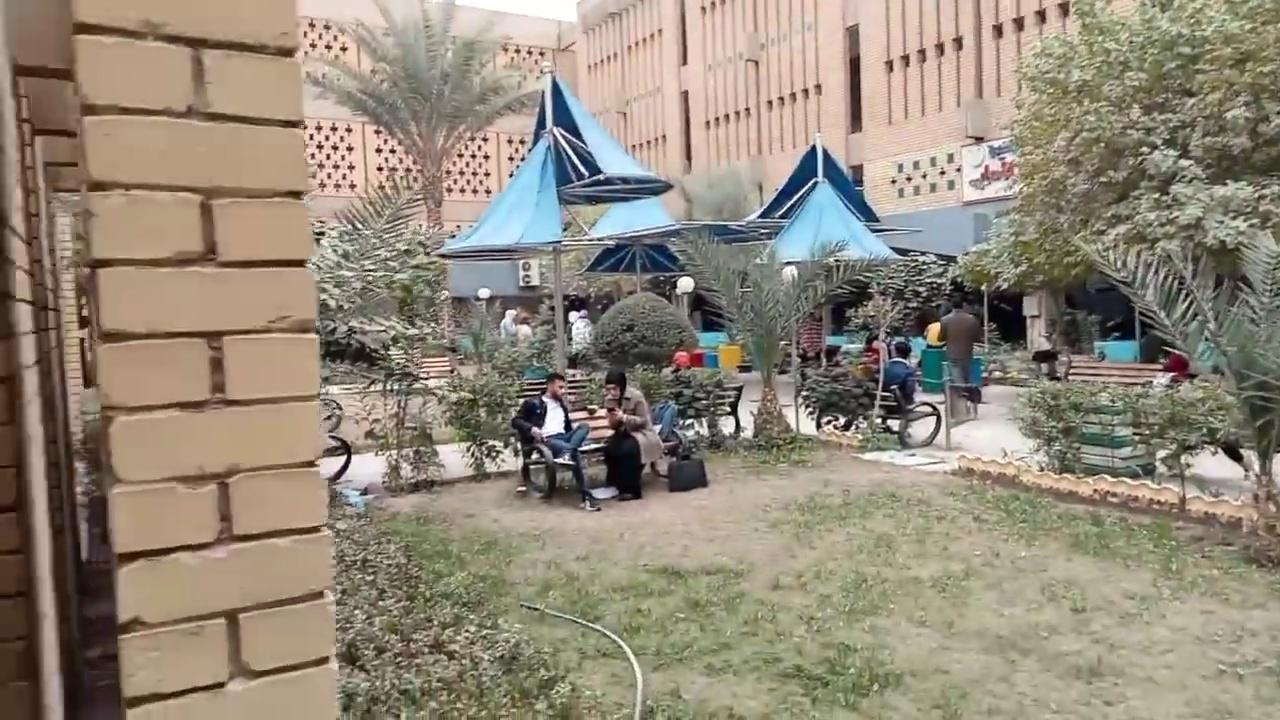person: (511, 372, 601, 511), (599, 369, 665, 500), (875, 340, 918, 410), (571, 309, 594, 347), (498, 308, 518, 338), (670, 344, 691, 372), (515, 314, 533, 345)
tree: (954, 0, 1278, 508), (302, 0, 550, 486), (303, 0, 547, 237), (307, 172, 461, 491), (670, 226, 885, 441), (845, 247, 959, 341), (587, 289, 699, 373)
